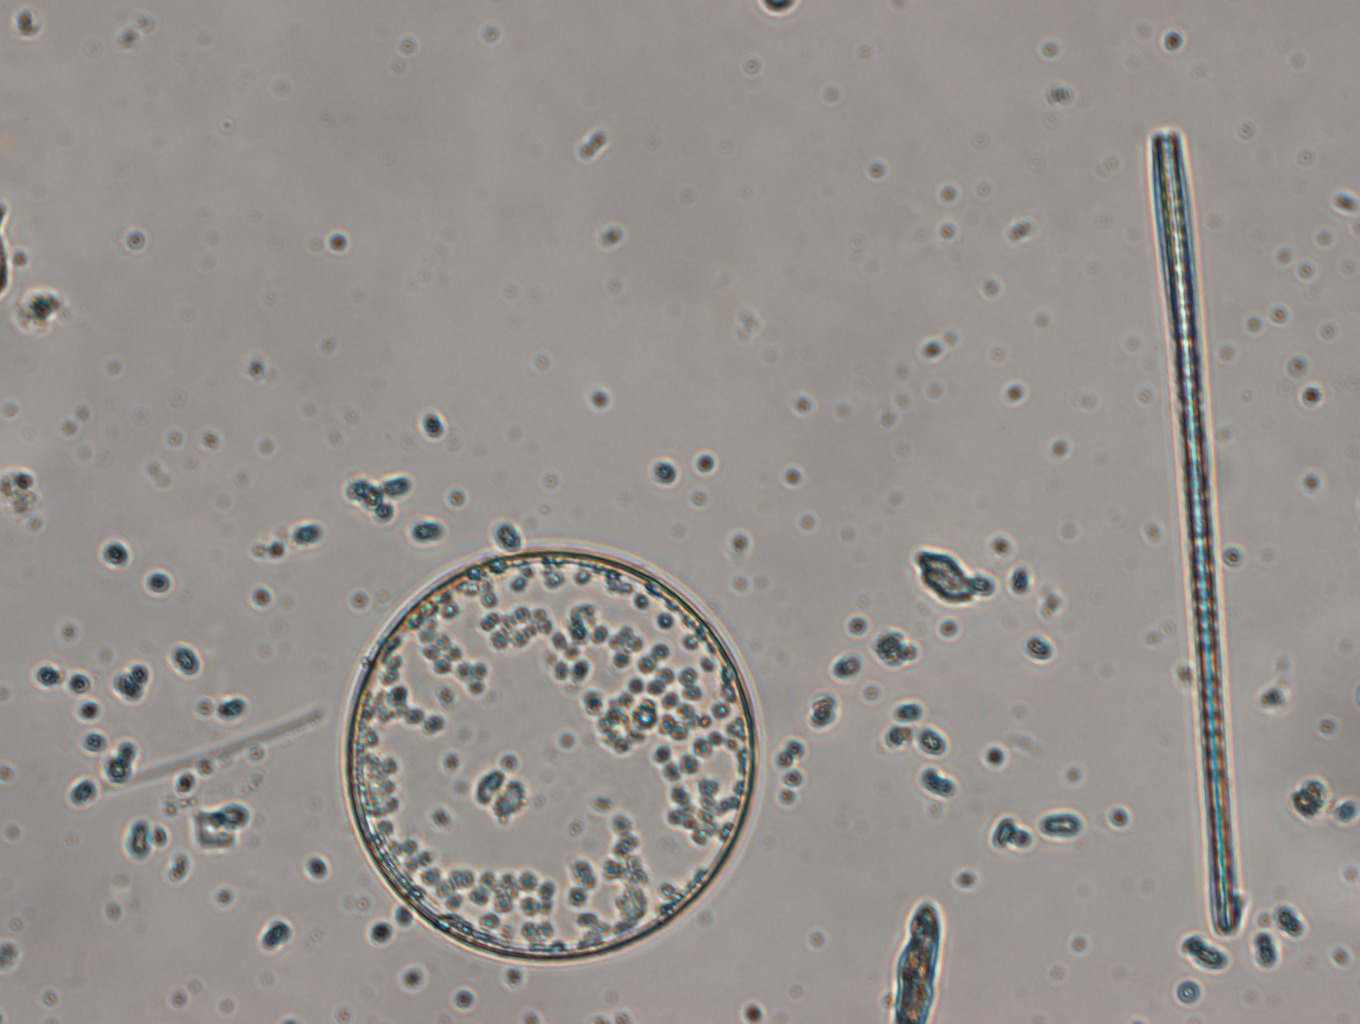coscinodiscus: (341, 547, 764, 959)
thalassionema frauenfeldii: (1148, 124, 1244, 937)
